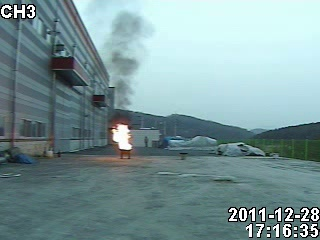fire: (112, 121, 131, 152)
smoke: (95, 2, 144, 117)
